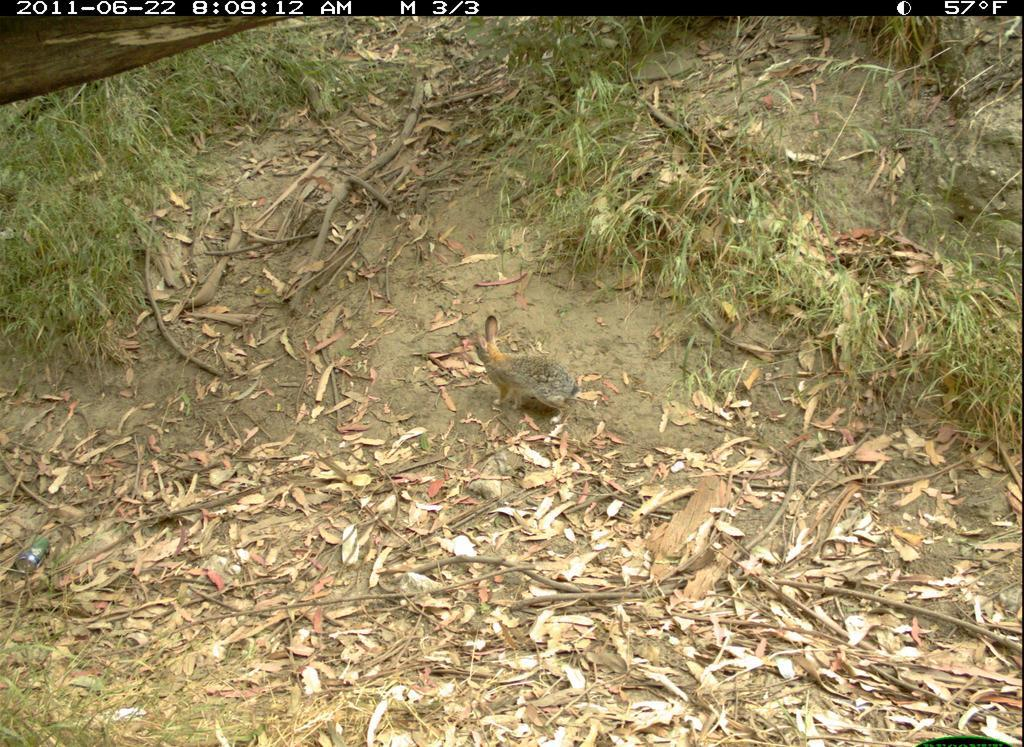rabbit: (465, 314, 583, 431)
